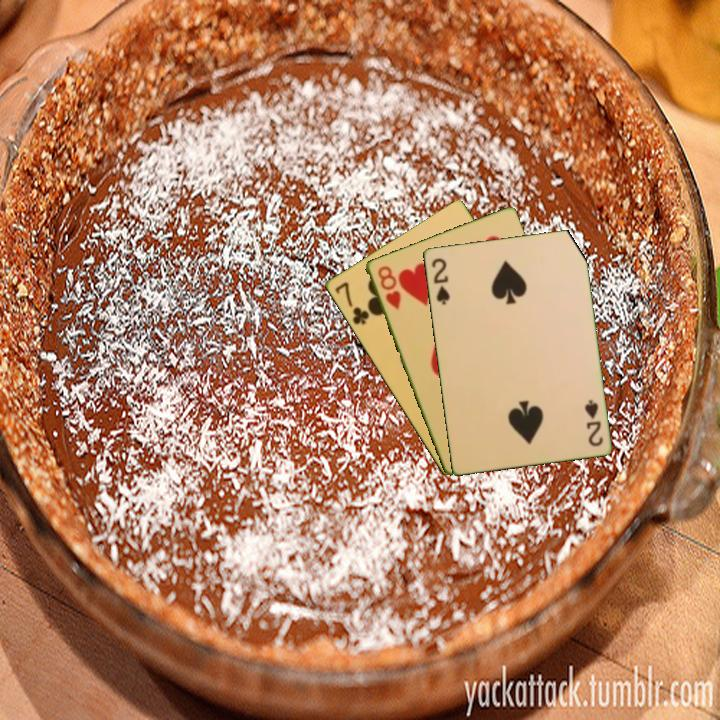2s: (581, 396, 606, 449), (428, 254, 452, 307)
7c: (331, 278, 372, 328)
8h: (374, 262, 404, 312)
